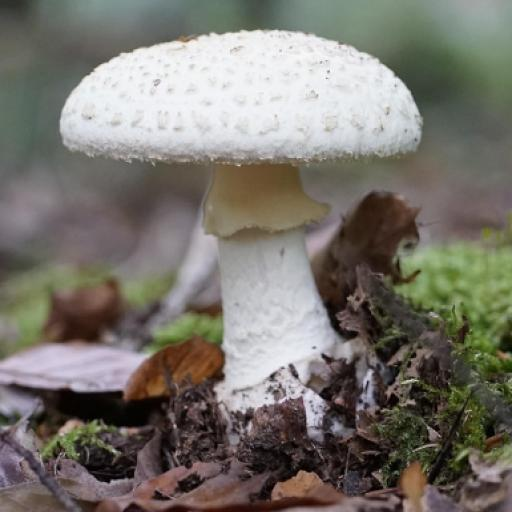mushroom: (54, 23, 448, 474)
